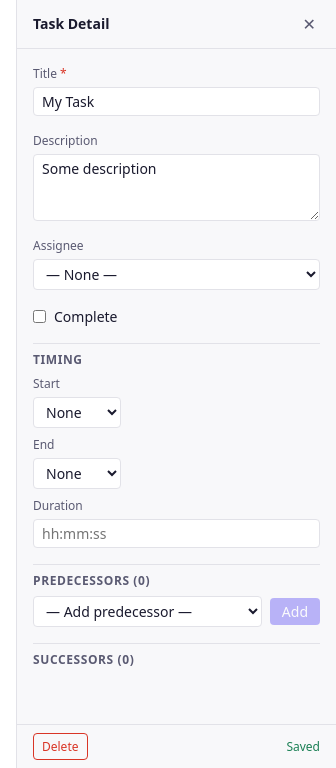
Test: TaskDetailPanel › shows save error when update fails
This screenshot has width=336, height=768.
Replace the text in the field showing "My Task" with "Bad Title". click: (176, 102)
box: x1=33 y1=87 x2=320 y2=116
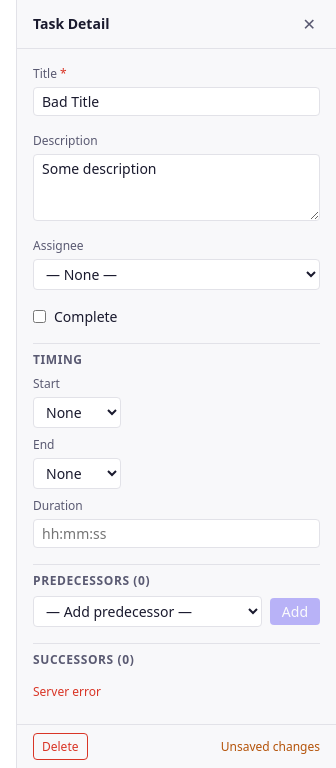
Check: the message reads "Server error", box x1=33 y1=683 x2=101 y2=700
